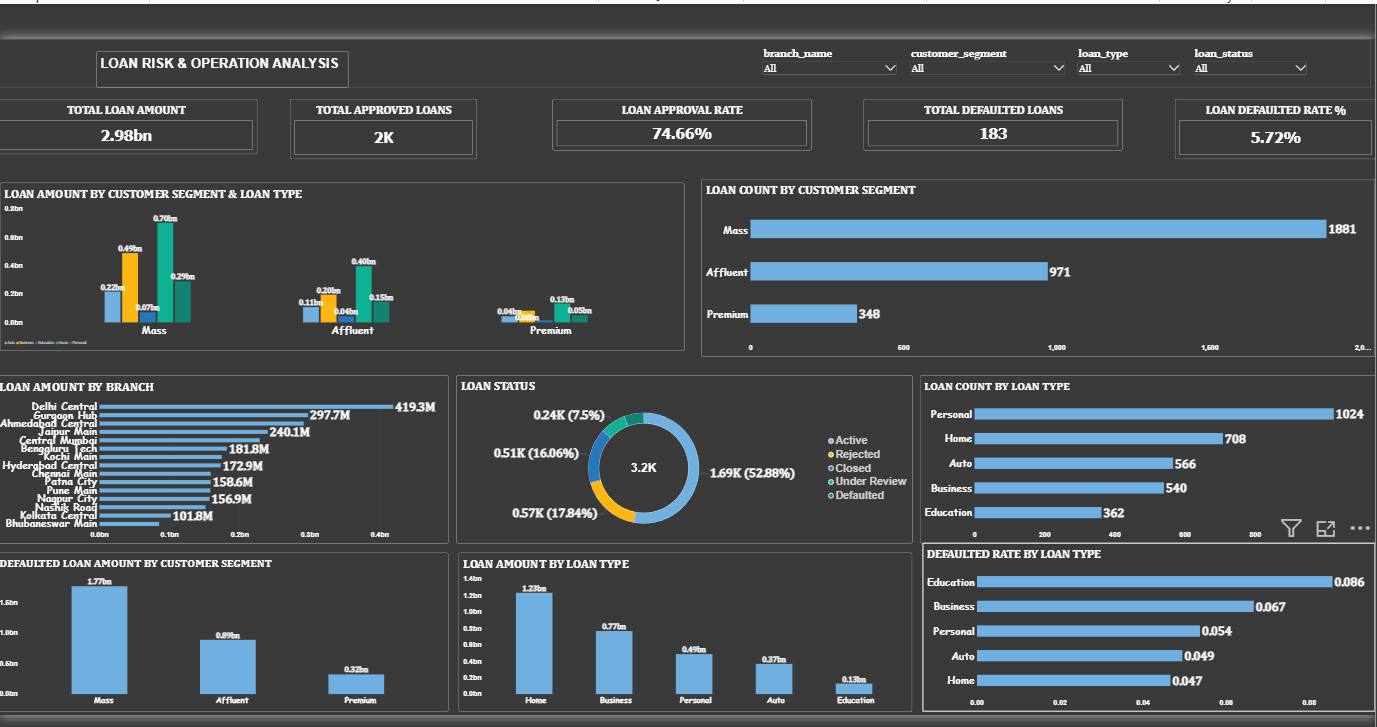

The page's visual inventory and layout, read from the dashboard file:
{"tool":"powerbi","page":{"name":"LOAN RISK & OPERATION ANALYSIS","canvas":[5500,2700],"ordinal":3},"visuals":[{"type":"shape","box":[-20,0,5499,193.6],"z":0},{"type":"textbox","box":[384,48,1008,144],"z":1000},{"type":"cardVisual","title":"TOTAL APPROVED LOANS","fields":{"Data":["public accounts.total approved loans"]},"box":[1158.8,240,747.4,240],"z":2000,"group":"g1"},{"type":"slicer","fields":{"Values":["public loans.loan_type"]},"box":[4303.7,31.7,419.8,158.4],"z":3000},{"type":"cardVisual","title":"LOAN APPROVAL RATE","fields":{"Data":["public accounts.loan approval rate %"]},"box":[2206.6,240,1034.8,205.7],"z":3000,"group":"g1"},{"type":"slicer","fields":{"Values":["public loans.loan_status"]},"box":[4765.4,31.7,461.7,158.4],"z":4000},{"type":"cardVisual","title":"TOTAL DEFAULTED LOANS","fields":{"Data":["public accounts.total defaulted loans"]},"box":[3450.9,240,1034.8,205.7],"z":4000,"group":"g1"},{"type":"slicer","fields":{"Values":["public customers.customer_segment"]},"box":[3632,31.7,629.7,126.7],"z":5000},{"type":"cardVisual","title":"LOAN DEFAULTED RATE %","fields":{"Data":["public accounts.loan default rate %"]},"box":[4695.1,240,804.9,240],"z":5000,"group":"g1"},{"type":"slicer","fields":{"Values":["public branches.branch_name"]},"box":[3044.3,31.7,545.7,158.4],"z":6000},{"type":"cardVisual","title":"TOTAL LOAN AMOUNT","fields":{"Data":["public accounts.total loan amount"]},"box":[-20,240,1047.8,220],"z":7000,"group":"g1"},{"type":"clusteredColumnChart","title":"DEFAULTED LOAN AMOUNT BY CUSTOMER SEGMENT","fields":{"Category":["public customers.customer_segment"],"Y":["Sum(public loans.loan_amount)"]},"box":[-20,2052.2,1811.9,635.8],"z":7000},{"type":"clusteredBarChart","title":"LOAN AMOUNT BY BRANCH","fields":{"Category":["public branches.branch_name"],"Y":["public accounts.total loan amount"]},"box":[-20,1346.3,1811.9,673.2],"z":8000},{"type":"clusteredBarChart","title":"LOAN COUNT BY CUSTOMER SEGMENT","fields":{"Category":["public customers.customer_segment"],"Y":["Count(public loans.loan_id)"]},"box":[2803.2,561,2696.8,710.6],"z":9000},{"type":"clusteredBarChart","title":"LOAN COUNT BY LOAN TYPE","fields":{"Y":["CountNonNull(public loans.loan_id)"],"Category":["public loans.loan_type"]},"box":[3676,1344,1824,672],"z":10000},{"type":"clusteredColumnChart","title":"LOAN AMOUNT BY LOAN TYPE","fields":{"Category":["public loans.loan_type"],"Y":["public accounts.total loan amount"]},"box":[1834,2052.2,1811.9,635.8],"z":11000},{"type":"clusteredColumnChart","title":"LOAN AMOUNT BY CUSTOMER SEGMENT & LOAN TYPE","fields":{"Category":["public customers.customer_segment"],"Y":["public accounts.total loan amount"],"Series":["public loans.loan_type"]},"box":[0,576,2736,672],"z":12000},{"type":"donutChart","title":"LOAN STATUS","fields":{"Category":["public loans.loan_status"],"Y":["CountNonNull(public loans.loan_id)"]},"box":[1824,1344,1824,672],"z":13000},{"type":"clusteredBarChart","title":"DEFAULTED RATE BY LOAN TYPE","fields":{"Category":["public loans.loan_type"],"Y":["public accounts.loan default rate %"]},"box":[3688.1,2014.8,1811.9,673.2],"z":14000},{"type":"group","id":"g1","title":"Group 1","box":[-20,240,5520,240],"z":15000}]}

Visuals, with their boxes on the page's 5500x2700 design canvas (x1, y1, x2, y2). These are canvas units, not pixel positions in the 1377x727 screenshot, which may show the page scaled, cropped or inside an application window:
shape: [x1=-20, y1=0, x2=5479, y2=194]
textbox: [x1=384, y1=48, x2=1392, y2=192]
"TOTAL APPROVED LOANS" cardVisual: [x1=1159, y1=240, x2=1906, y2=480]
slicer - public loans.loan_type: [x1=4304, y1=32, x2=4724, y2=190]
"LOAN APPROVAL RATE" cardVisual: [x1=2207, y1=240, x2=3241, y2=446]
slicer - public loans.loan_status: [x1=4765, y1=32, x2=5227, y2=190]
"TOTAL DEFAULTED LOANS" cardVisual: [x1=3451, y1=240, x2=4486, y2=446]
slicer - public customers.customer_segment: [x1=3632, y1=32, x2=4262, y2=158]
"LOAN DEFAULTED RATE %" cardVisual: [x1=4695, y1=240, x2=5500, y2=480]
slicer - public branches.branch_name: [x1=3044, y1=32, x2=3590, y2=190]
"TOTAL LOAN AMOUNT" cardVisual: [x1=-20, y1=240, x2=1028, y2=460]
"DEFAULTED LOAN AMOUNT BY CUSTOMER SEGMENT" clusteredColumnChart: [x1=-20, y1=2052, x2=1792, y2=2688]
"LOAN AMOUNT BY BRANCH" clusteredBarChart: [x1=-20, y1=1346, x2=1792, y2=2020]
"LOAN COUNT BY CUSTOMER SEGMENT" clusteredBarChart: [x1=2803, y1=561, x2=5500, y2=1272]
"LOAN COUNT BY LOAN TYPE" clusteredBarChart: [x1=3676, y1=1344, x2=5500, y2=2016]
"LOAN AMOUNT BY LOAN TYPE" clusteredColumnChart: [x1=1834, y1=2052, x2=3646, y2=2688]
"LOAN AMOUNT BY CUSTOMER SEGMENT & LOAN TYPE" clusteredColumnChart: [x1=0, y1=576, x2=2736, y2=1248]
"LOAN STATUS" donutChart: [x1=1824, y1=1344, x2=3648, y2=2016]
"DEFAULTED RATE BY LOAN TYPE" clusteredBarChart: [x1=3688, y1=2015, x2=5500, y2=2688]
"Group 1" group: [x1=-20, y1=240, x2=5500, y2=480]
